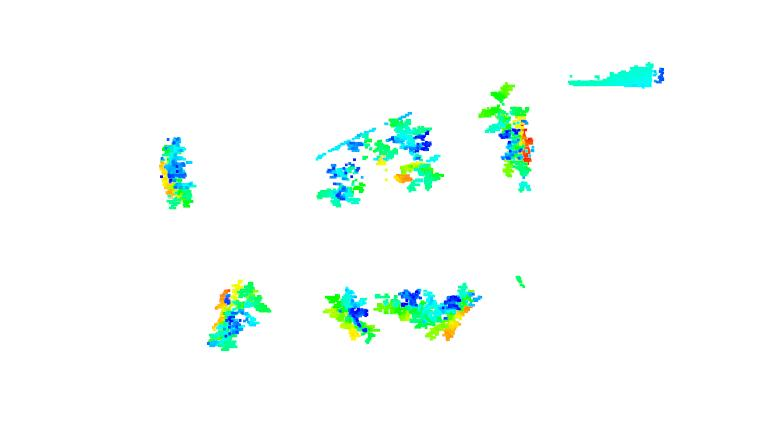chickpea: (477, 76, 542, 196), (371, 107, 444, 192), (307, 136, 373, 214), (207, 278, 272, 353), (145, 126, 197, 213), (321, 282, 381, 345), (432, 282, 489, 341), (374, 276, 432, 331)
